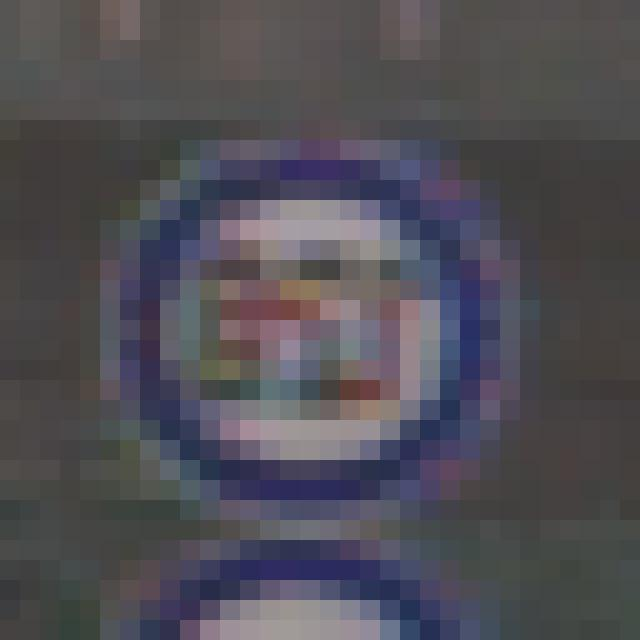SPEED LIMIT 120: (99, 137, 521, 492)
